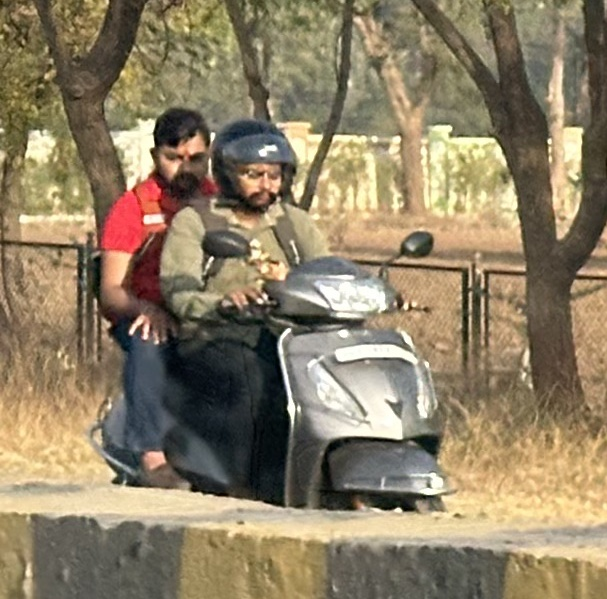BikeWithRider: (74, 97, 469, 521)
Helmet: (202, 113, 306, 215)
NoHelmet: (138, 101, 221, 196)
